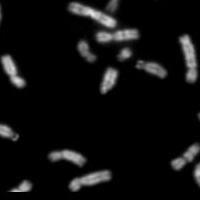chromosome: (68, 2, 116, 27), (68, 168, 111, 193), (179, 34, 197, 83), (170, 143, 199, 171), (1, 53, 24, 88), (50, 150, 86, 167), (136, 60, 166, 79), (95, 30, 138, 42), (100, 67, 117, 94), (77, 38, 96, 61), (194, 128, 200, 187), (0, 124, 18, 142), (116, 46, 131, 61), (106, 0, 121, 12), (199, 93, 200, 128), (0, 0, 1, 32)
